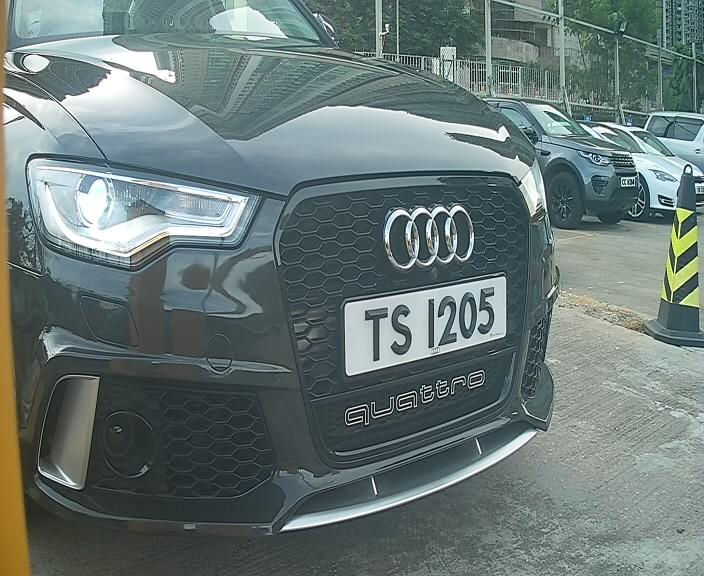Car: (7, 16, 607, 559)
License Plate: (346, 273, 513, 373)
